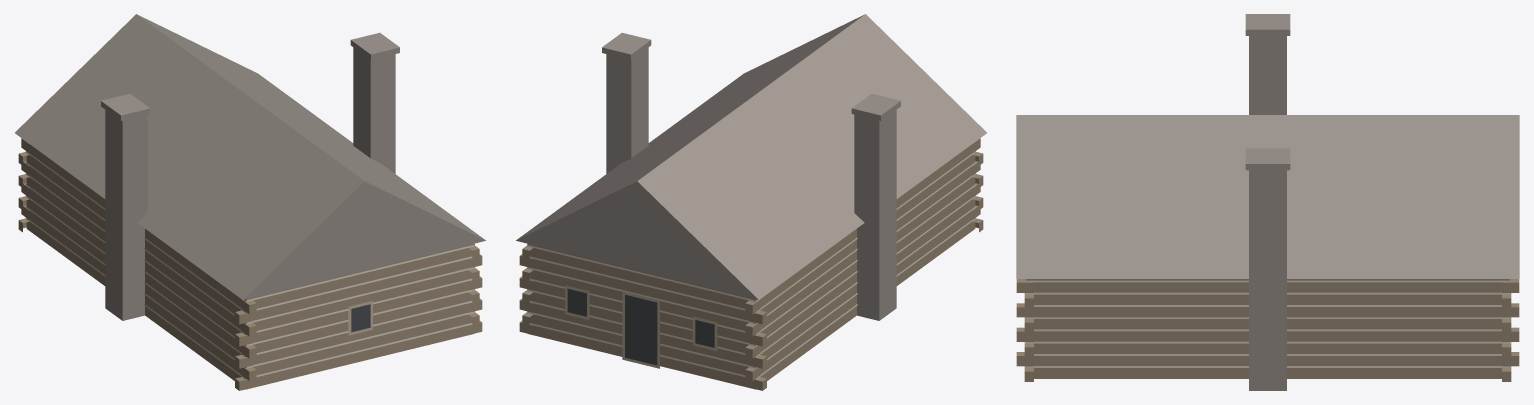
File: brown_boarding_house__documented_1835.glb
3 views of the same model, side by side, from view 1: azimuth 30°, elevation 25°; view 2: azimuth 150°, elevation 25°; view 3: azimuth 270°, elevation 25° (orthographic). The views are drawn at different scales.
Visible parts, largest first — view 1: brown_boarding_house__documented_1835; view 2: brown_boarding_house__documented_1835; view 3: brown_boarding_house__documented_1835.
Boxes of the visible parts, x1,y1,x2,y2 form: brown_boarding_house__documented_1835: (15, 14, 485, 390); brown_boarding_house__documented_1835: (516, 14, 986, 390); brown_boarding_house__documented_1835: (1016, 14, 1519, 390).
Size of the model in its own units: 8.96 by 6.42 by 12.69.
